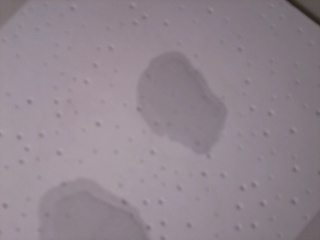Water_detected: (137, 61, 222, 141), (52, 185, 137, 240)
